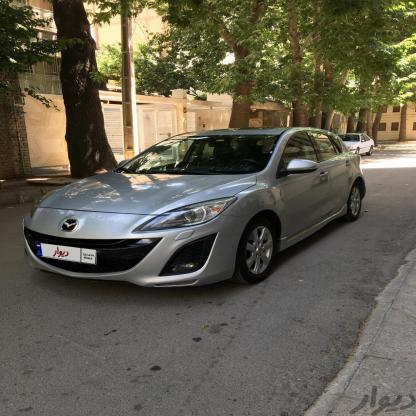Car: (15, 129, 365, 301), (329, 129, 389, 162)
